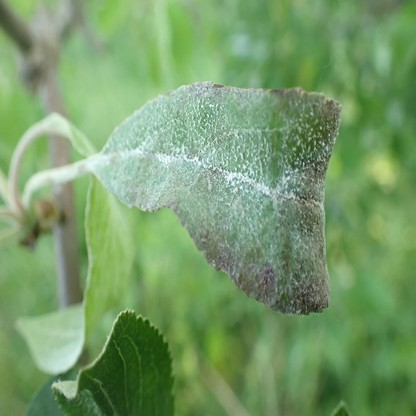powdery_mildew: (95, 86, 341, 318)
